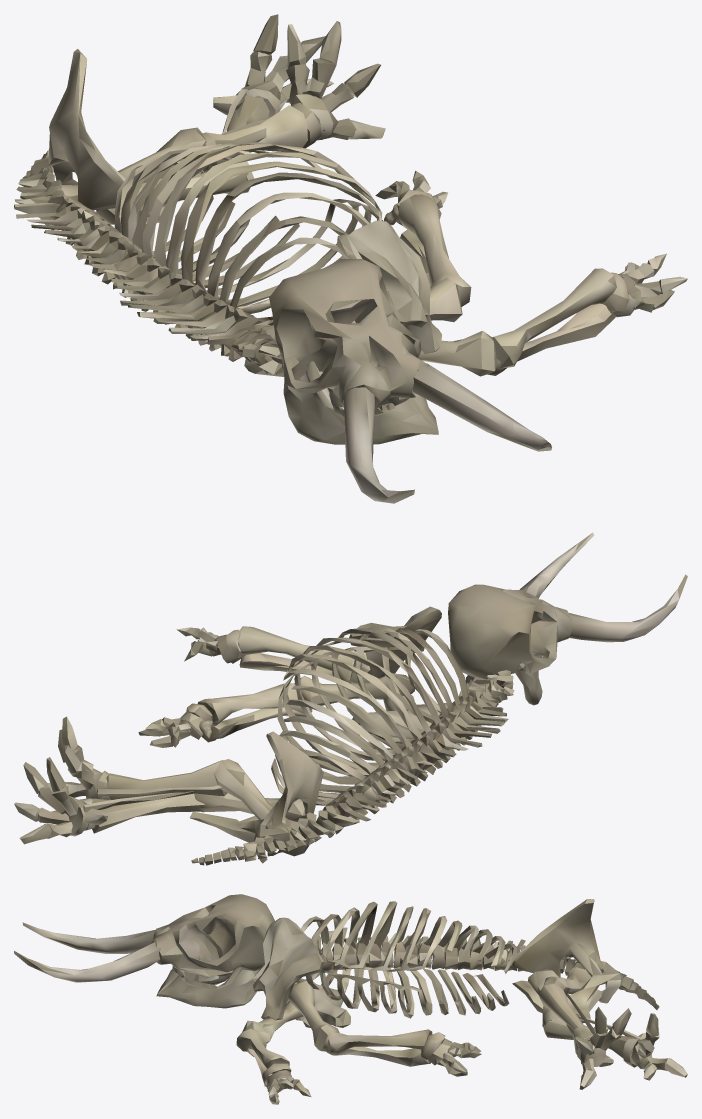
File: elephant.glb
3 views of the same model, one above another, from view 1: azimuth 30°, elevation 25°; view 2: azimuth 150°, elevation 25°; view 3: azimuth 270°, elevation 25° (orthographic). The views are drawn at different scales.
Visible parts, largest first — view 1: elephant; view 2: elephant; view 3: elephant.
Boxes of the visible parts, x1,y1,x2,y2 form: elephant: [14, 14, 687, 503]; elephant: [14, 532, 687, 865]; elephant: [14, 894, 687, 1104].
Size of the model in its own units: 0.5276 by 0.1855 by 0.9999.
1 material, 1 textured.
